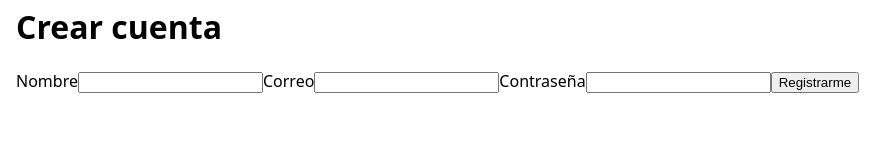
Test case: Registro › no envía el rol y rechaza contraseñas débiles
Later steps or results of the test are not shown.
Type "Ana" into the field labelled "Nombre". click: (170, 82)
box: [78,72,263,93]
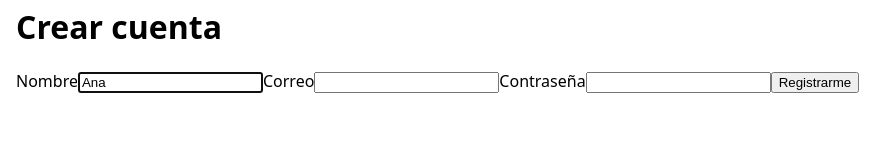
Type "a@b.co" into the field labelled "Correo". click: (407, 82)
box: [314,72,499,93]
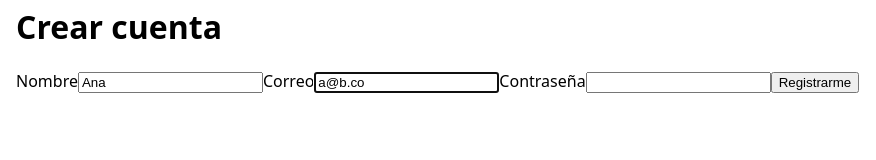
Type "1234" into the password field labelled "Contraseña". click: (678, 82)
box: [586,72,771,93]
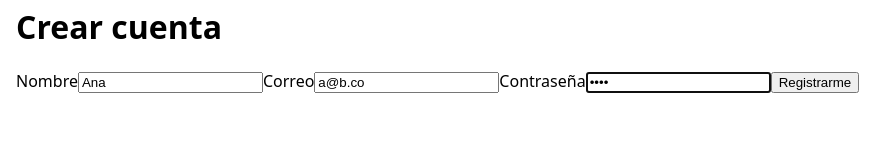
Click the button. click: click(815, 82)
box: [771,72,859,93]
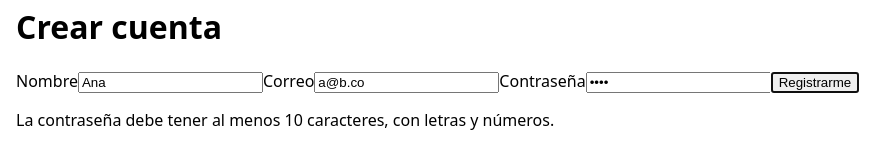
expect the message shows "10 caracteres": met, box [16,109,554,131]
